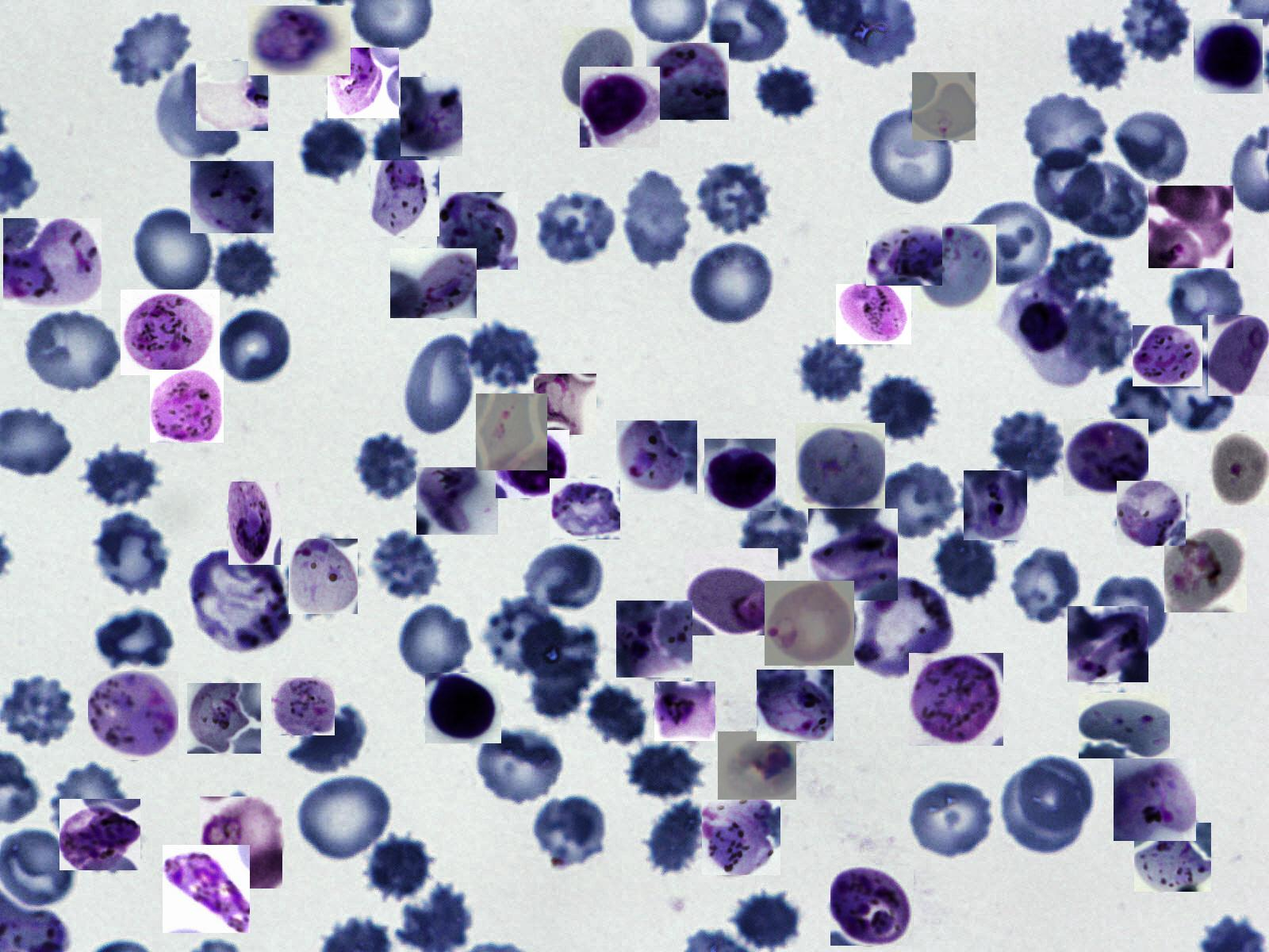Infected: (191, 550, 291, 656), (999, 278, 1093, 390), (856, 577, 954, 678), (3, 218, 102, 309), (909, 653, 1003, 746), (121, 290, 220, 375), (808, 509, 898, 601), (685, 548, 778, 635), (88, 671, 178, 760), (796, 423, 885, 510), (163, 845, 250, 933), (765, 581, 854, 666), (200, 797, 282, 889), (248, 6, 351, 75), (1164, 528, 1247, 612), (1148, 186, 1233, 268), (1114, 758, 1196, 841), (917, 225, 996, 311), (830, 866, 914, 946), (580, 67, 660, 148), (1064, 419, 1148, 496), (646, 44, 729, 121), (437, 192, 518, 270), (562, 27, 634, 112), (390, 248, 477, 318), (1068, 606, 1148, 682), (190, 161, 274, 233), (617, 420, 698, 494), (1079, 693, 1170, 758), (616, 601, 692, 678), (702, 800, 780, 875), (60, 799, 140, 870), (416, 467, 498, 535), (866, 214, 942, 286), (757, 670, 834, 741), (476, 393, 547, 470), (150, 370, 224, 443), (718, 731, 796, 800), (425, 673, 501, 743), (1134, 823, 1211, 892), (187, 683, 261, 754), (370, 160, 439, 236), (704, 439, 776, 511), (289, 539, 358, 614), (1194, 19, 1263, 94), (196, 61, 268, 131), (328, 48, 399, 118), (496, 430, 569, 498), (1208, 315, 1269, 396), (401, 77, 462, 156), (836, 284, 911, 344), (1117, 481, 1186, 546), (964, 470, 1027, 540), (228, 482, 281, 565), (912, 72, 976, 140), (550, 478, 620, 539), (1211, 432, 1269, 505), (1133, 325, 1202, 386), (534, 374, 596, 435), (654, 681, 715, 741), (271, 678, 335, 735)
Uninfected: (295, 770, 397, 862), (866, 106, 958, 208), (20, 306, 124, 393), (963, 196, 1057, 285), (129, 205, 217, 298), (521, 619, 602, 717), (618, 164, 696, 265), (473, 723, 566, 807), (397, 337, 477, 433), (688, 240, 778, 325), (155, 67, 239, 157), (871, 462, 962, 543), (44, 762, 128, 848), (1003, 768, 1086, 854), (1060, 163, 1152, 240), (1166, 263, 1247, 348), (907, 781, 994, 858), (531, 188, 621, 262), (113, 7, 197, 86), (90, 512, 168, 597), (1022, 94, 1110, 169), (1090, 576, 1171, 656), (1114, 106, 1193, 186), (485, 595, 565, 674), (526, 540, 608, 616), (395, 601, 473, 680), (1008, 547, 1084, 626), (90, 608, 181, 673), (217, 307, 290, 388), (692, 160, 773, 232), (284, 704, 369, 772), (1018, 757, 1091, 836), (990, 409, 1068, 482), (364, 527, 443, 599), (734, 497, 813, 569), (1163, 354, 1235, 433), (864, 373, 939, 447), (0, 676, 75, 750), (463, 320, 542, 390), (1030, 148, 1107, 219), (1064, 295, 1136, 370), (298, 116, 374, 186), (623, 741, 704, 805), (534, 799, 606, 869), (925, 532, 998, 601), (643, 800, 706, 877), (799, 334, 865, 401), (86, 444, 155, 507), (356, 430, 420, 497), (731, 893, 803, 951), (214, 239, 281, 300), (369, 119, 430, 185), (368, 835, 431, 898), (1068, 24, 1129, 88), (1107, 378, 1174, 436), (1046, 241, 1116, 295), (755, 64, 819, 122), (588, 683, 648, 744)
